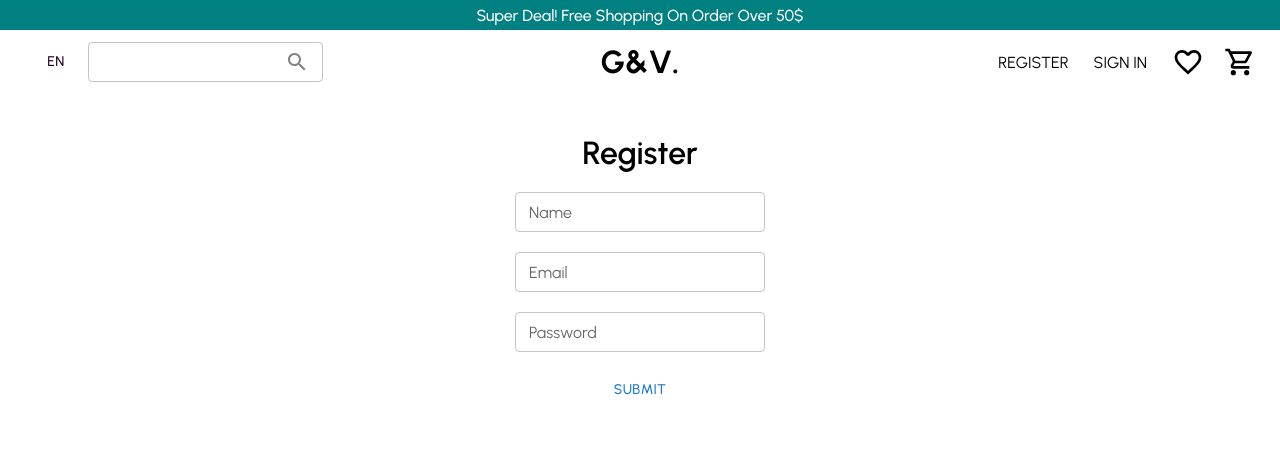
it: Schemas validators should display error messages for name, email and password fields › name schema error
In the element with test id "name-input": [640, 212] box 515,192 -> 765,232, type "p"
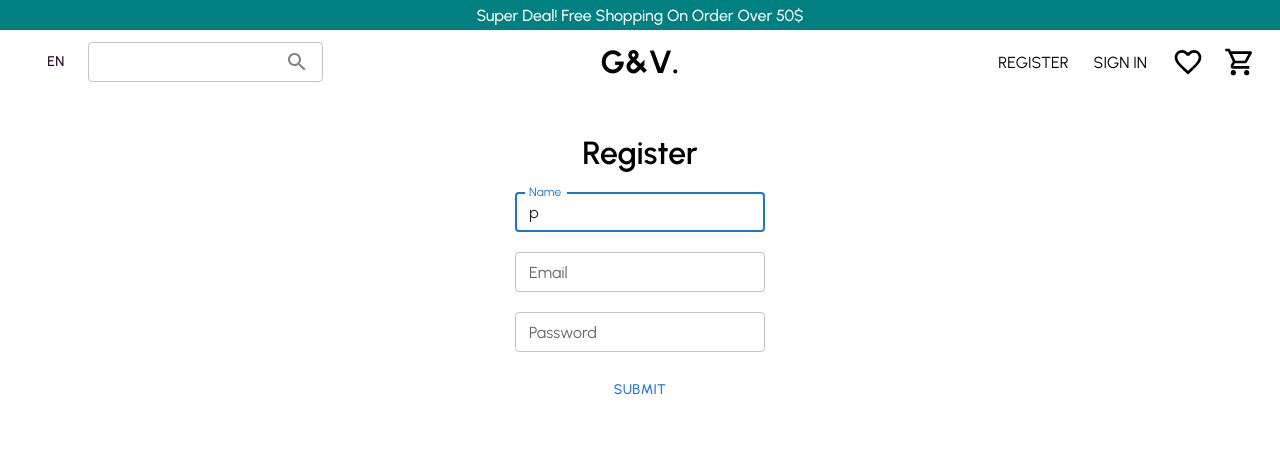
In the element with test id "email-input": [640, 272] box 515,252 -> 765,292, type "test@gmail"
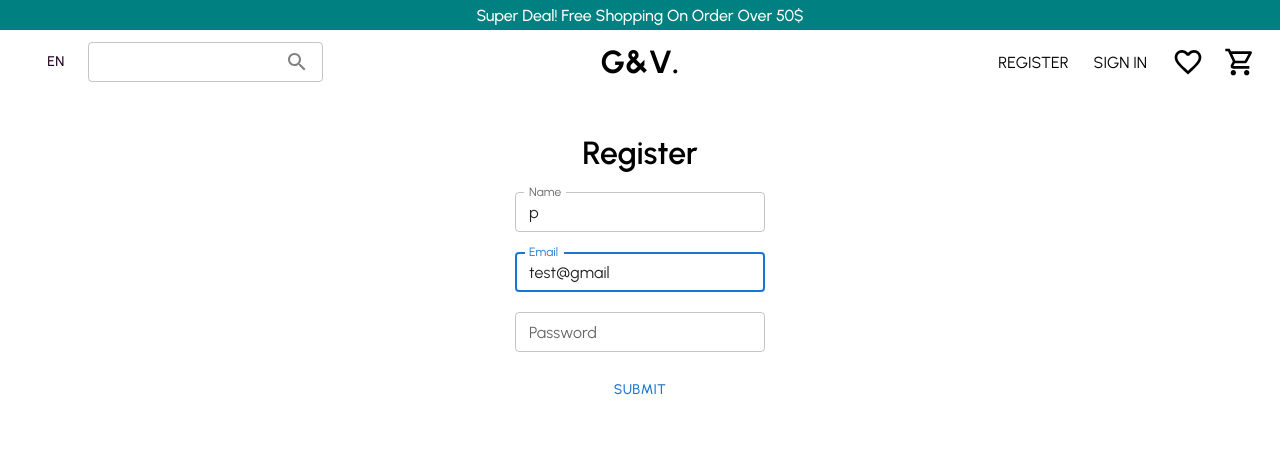
In the element with test id "password-input": [640, 332] box 515,312 -> 765,352, type "lacontraseñasegura"
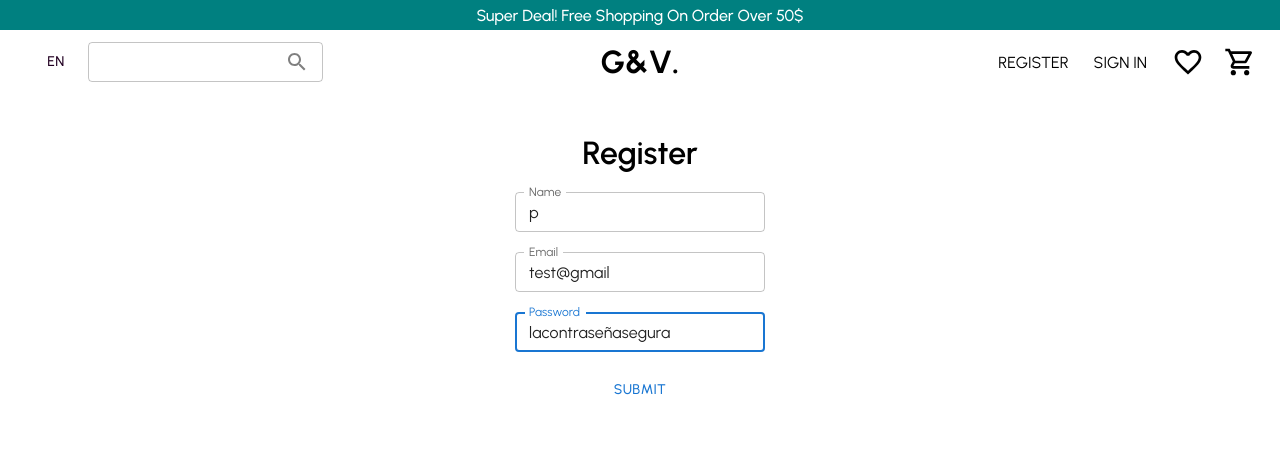
Click the button with id "send-login": [641, 391] box 606,372 -> 675,409
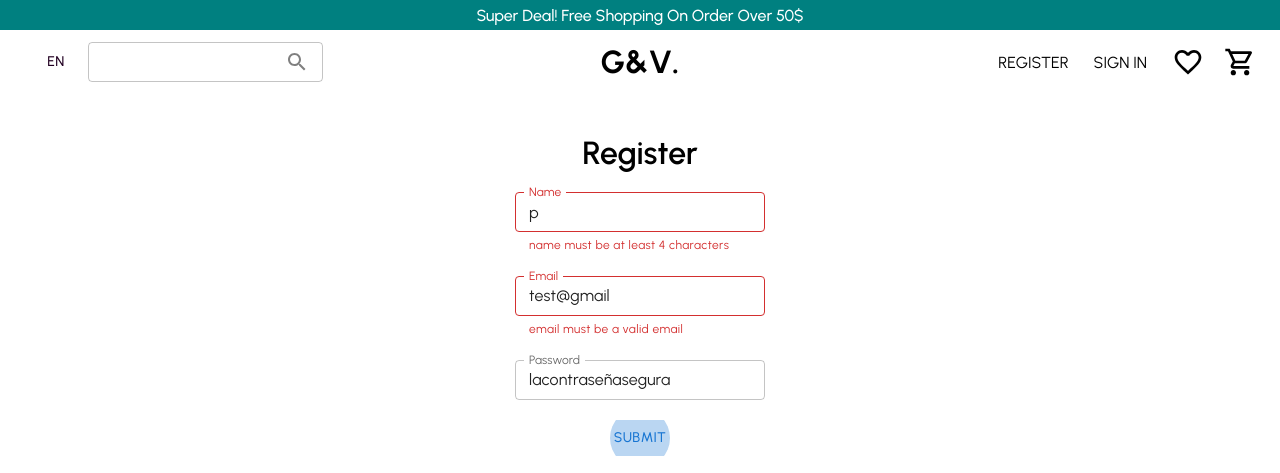
Expected: the text "email must be a valid email" is shown, 529,322 -> 683,336
